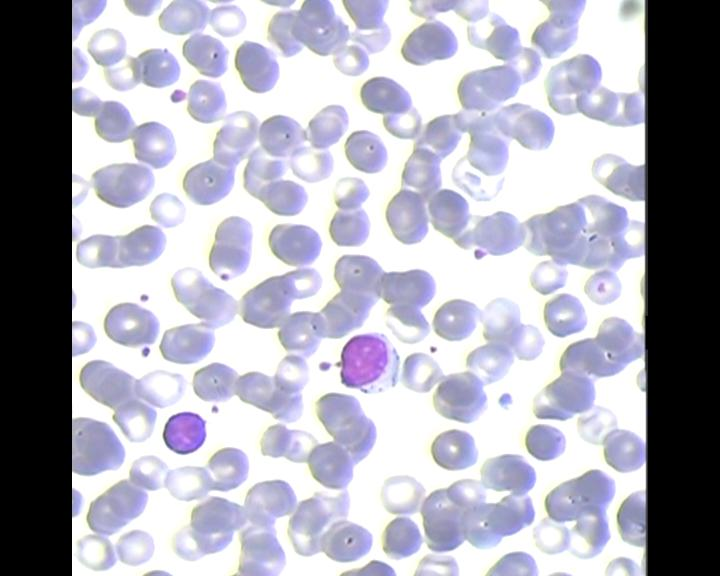lymp: (336, 328, 401, 397), (155, 408, 209, 459)
